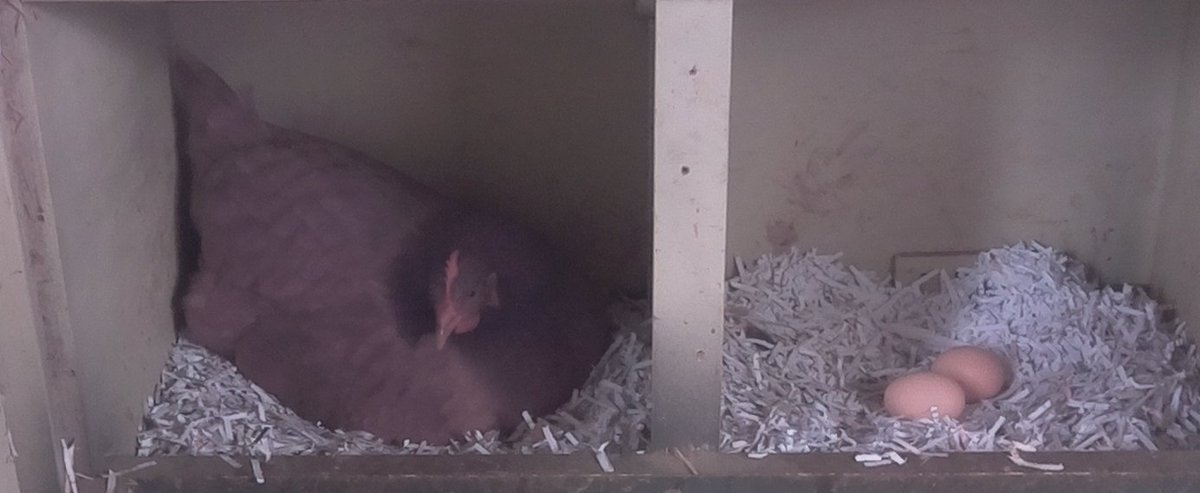egg: (930, 342, 1010, 408), (881, 369, 969, 426)
hen: (176, 68, 618, 443)
